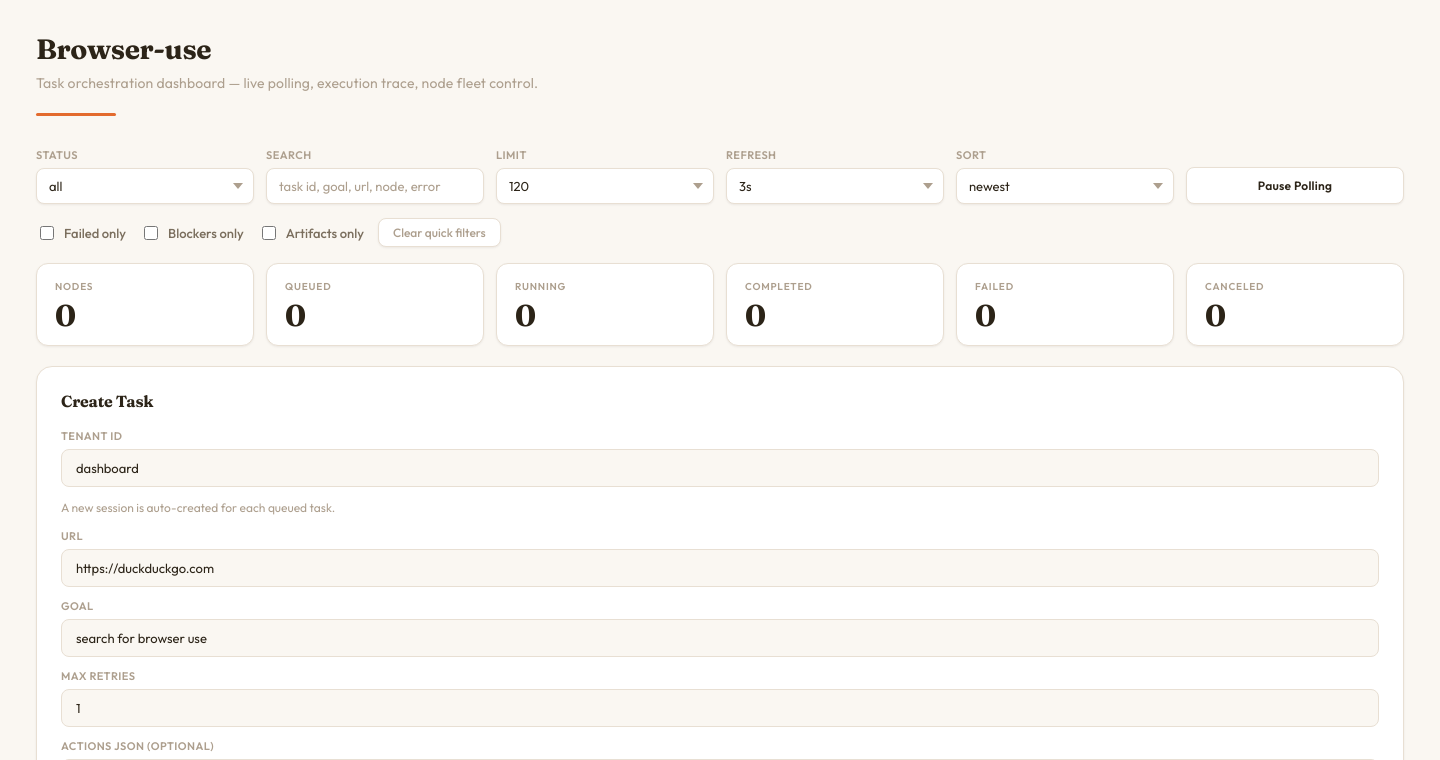
Test: Controls section › toggles polling with the Pause/Resume button
Step 1. Click the button "Pause Polling" → {"x": 1295, "y": 186}, box x1=1186 y1=167 x2=1404 y2=204
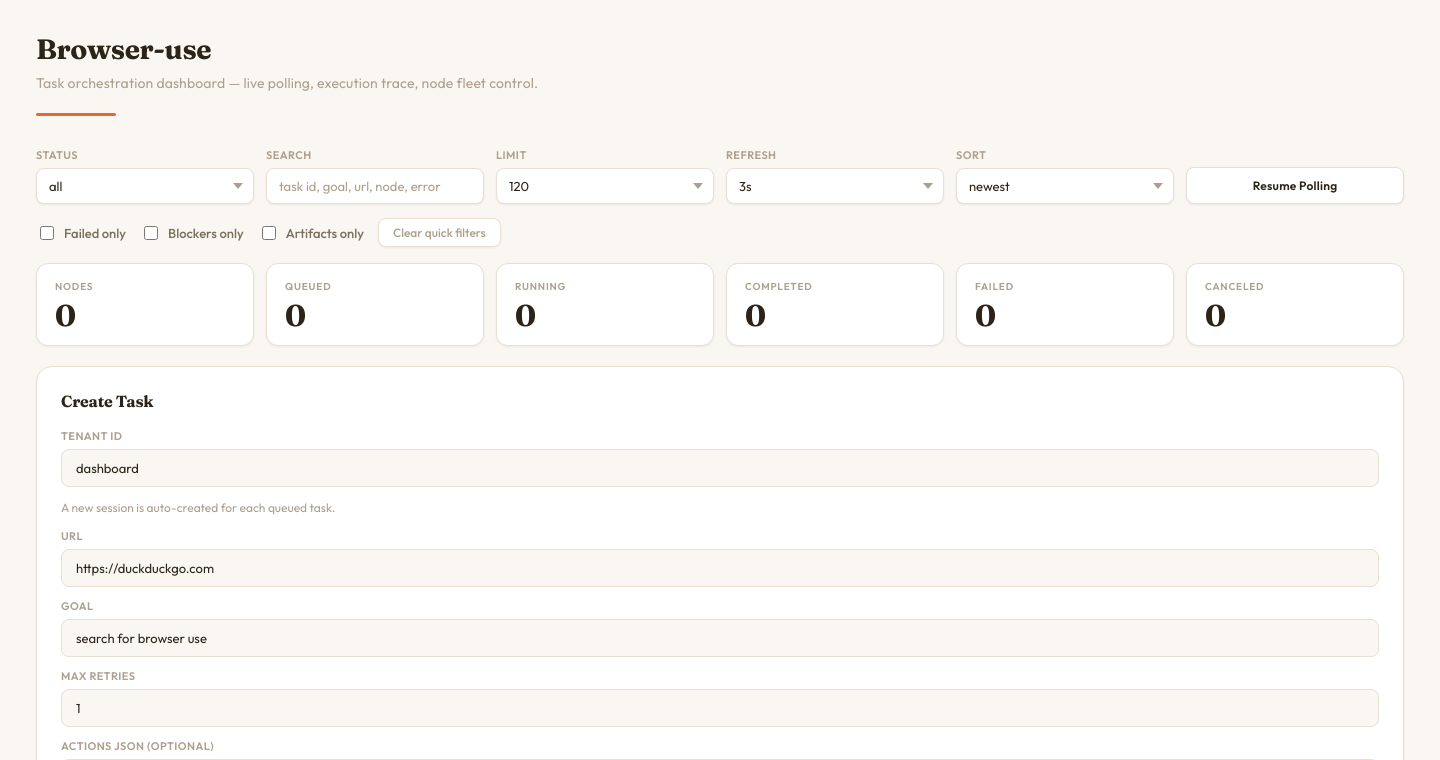
Result: the button named "Pause Polling" shows "Resume" at x1=1186 y1=167 x2=1404 y2=204
